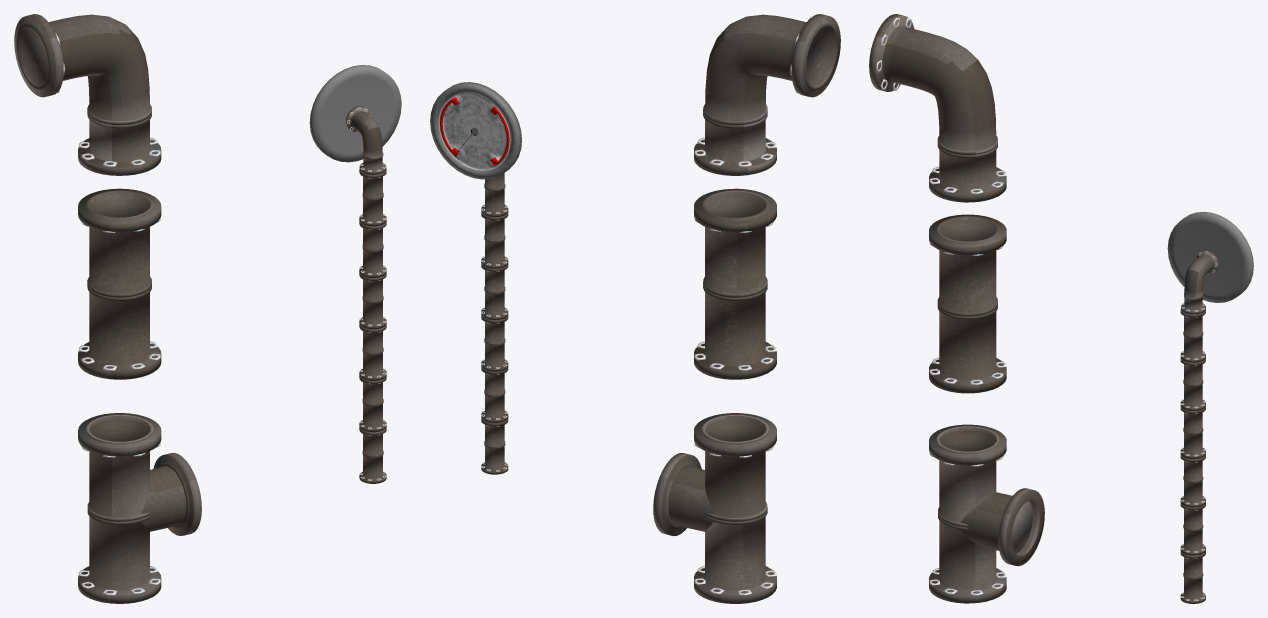
File: PIPES.glb
3 views of the same model, side by side, from view 1: azimuth 30°, elevation 25°; view 2: azimuth 150°, elevation 25°; view 3: azimuth 330°, elevation 25° (orthographic). The views are drawn at different scales.
Parts seen in each view (by area): view 1: Cylinder.002, Cylinder.001, Cylinder, Circle, Cylinder.009, Cylinder.003, Cylinder.006, Cylinder.008, Cylinder.004, Cylinder.007, Cylinder.005; view 2: Cylinder.002, Cylinder.001, Cylinder, Circle, Cylinder.008, Cylinder.004, Cylinder.006, Cylinder.005, Cylinder.007, Cylinder.003; view 3: Cylinder.002, Cylinder.001, Cylinder, Circle, Cylinder.009, Cylinder.003, Cylinder.008, Cylinder.004, Cylinder.006, Cylinder.007, Cylinder.005, Cube.001.
Boxes of the visible parts, box(x1,y1,x2,y2) form: Cylinder.002: box(78, 413, 201, 603); Cylinder.001: box(14, 14, 161, 175); Cylinder: box(78, 188, 161, 379); Circle: box(309, 65, 401, 162); Cylinder.009: box(345, 106, 386, 174); Cylinder.003: box(359, 169, 386, 226); Cylinder.006: box(359, 324, 386, 380); Cylinder.008: box(359, 427, 386, 483); Cylinder.004: box(359, 221, 386, 277); Cylinder.007: box(359, 375, 386, 432); Cylinder.005: box(359, 273, 386, 329); Cylinder.002: box(653, 413, 776, 603); Cylinder.001: box(694, 14, 840, 175); Cylinder: box(694, 188, 776, 379); Circle: box(430, 82, 521, 179); Cylinder.008: box(481, 418, 508, 474); Cylinder.004: box(481, 212, 508, 268); Cylinder.006: box(481, 315, 508, 371); Cylinder.005: box(481, 264, 508, 319); Cylinder.007: box(481, 367, 508, 422); Cylinder.003: box(481, 173, 508, 216); Cylinder.002: box(929, 424, 1044, 603); Cylinder.001: box(869, 14, 1006, 202); Cylinder: box(929, 214, 1006, 393); Circle: box(1167, 211, 1253, 302); Cylinder.009: box(1181, 250, 1218, 314); Cylinder.003: box(1180, 309, 1205, 362); Cylinder.008: box(1180, 551, 1205, 603); Cylinder.004: box(1180, 358, 1205, 410); Cylinder.006: box(1180, 455, 1205, 507); Cylinder.007: box(1180, 503, 1205, 555); Cylinder.005: box(1180, 407, 1205, 459); Cube.001: box(876, 17, 1006, 194).
Bounding box in the file's own units: 2.87 × 4.28 × 0.5561.
Materials: 6 (3 with a texture image).
